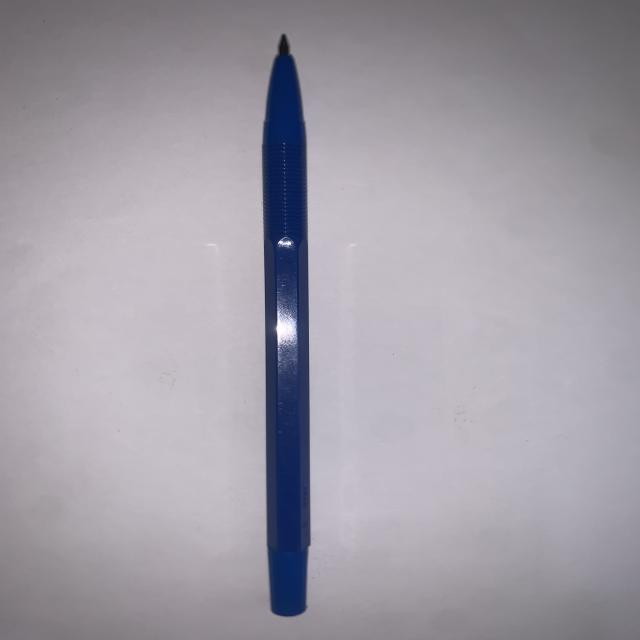Pulpen: (237, 23, 342, 632)
